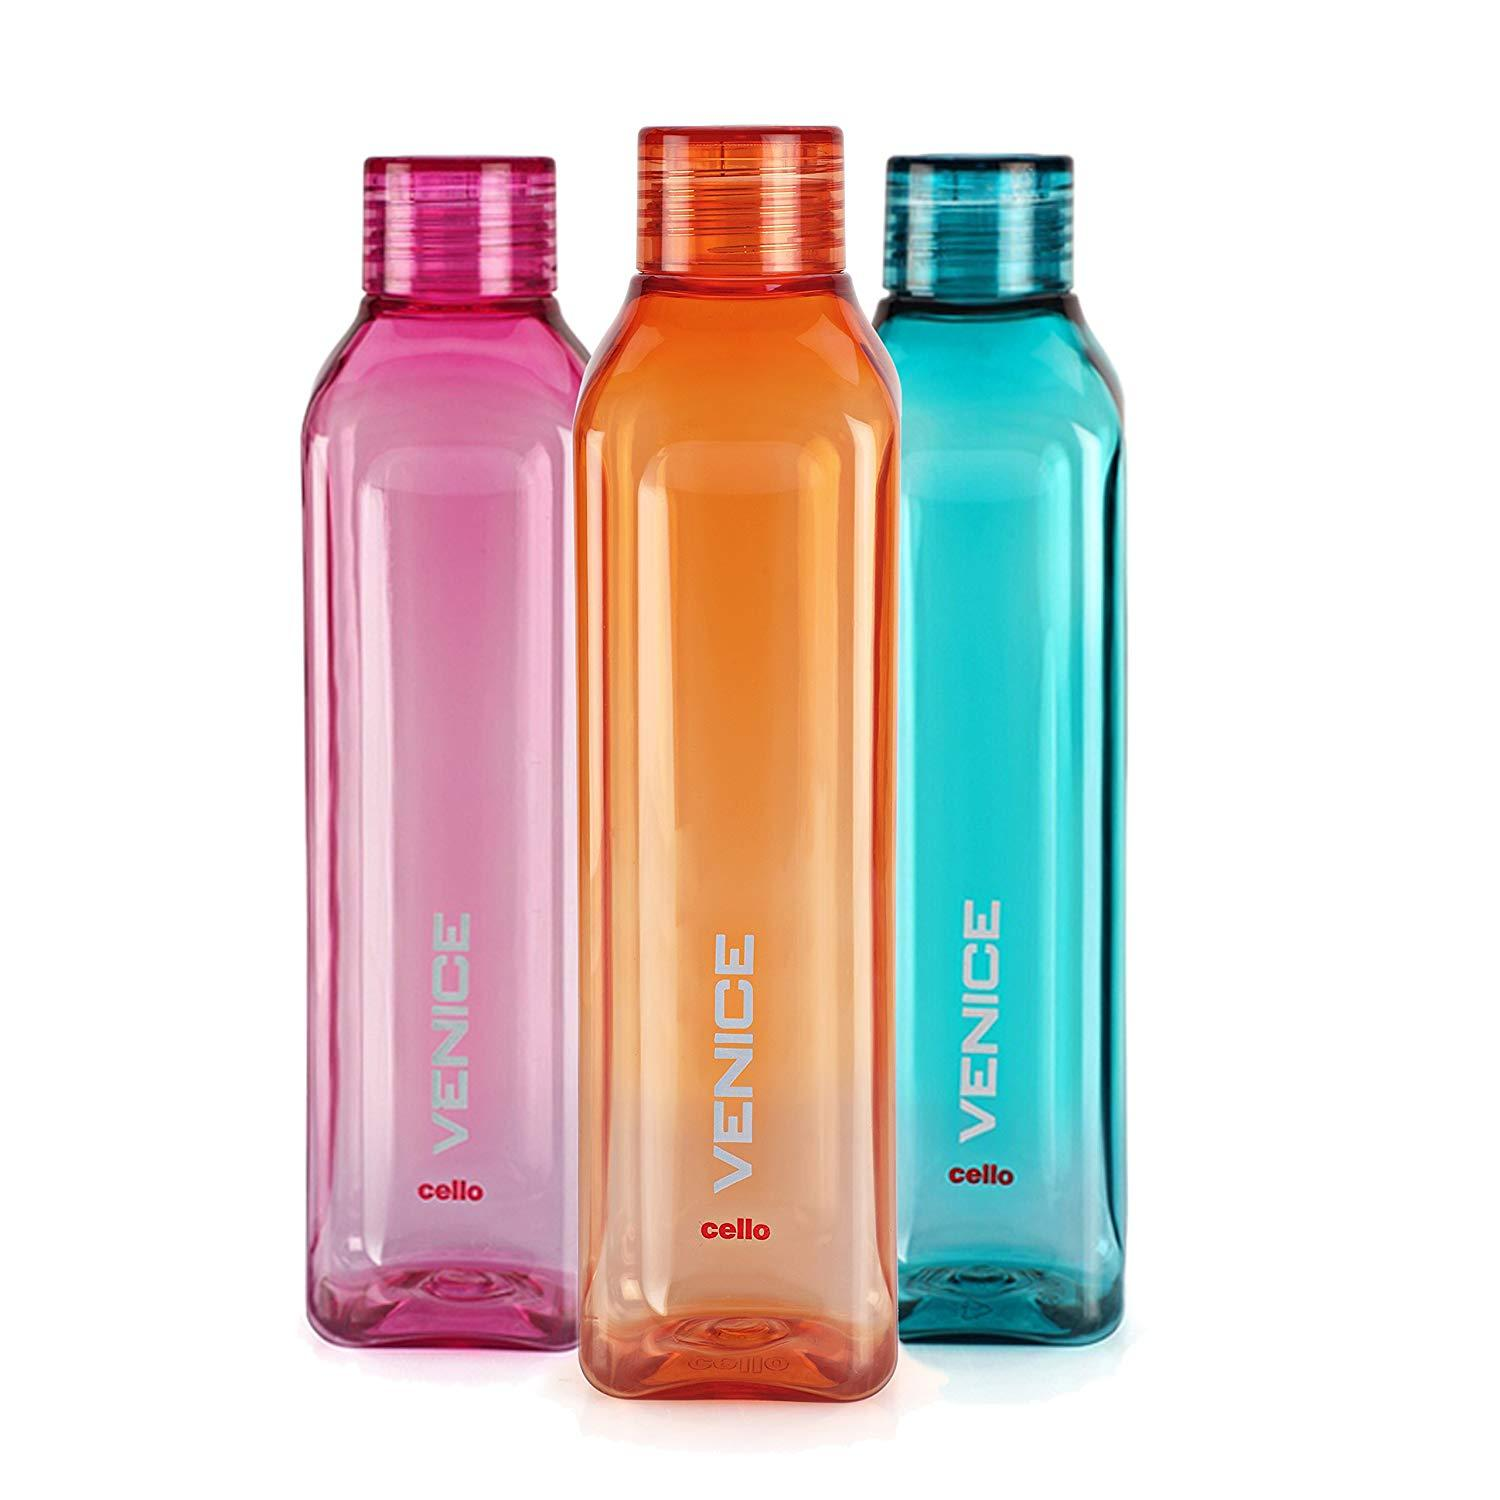PP: (486, 92, 988, 1440)
